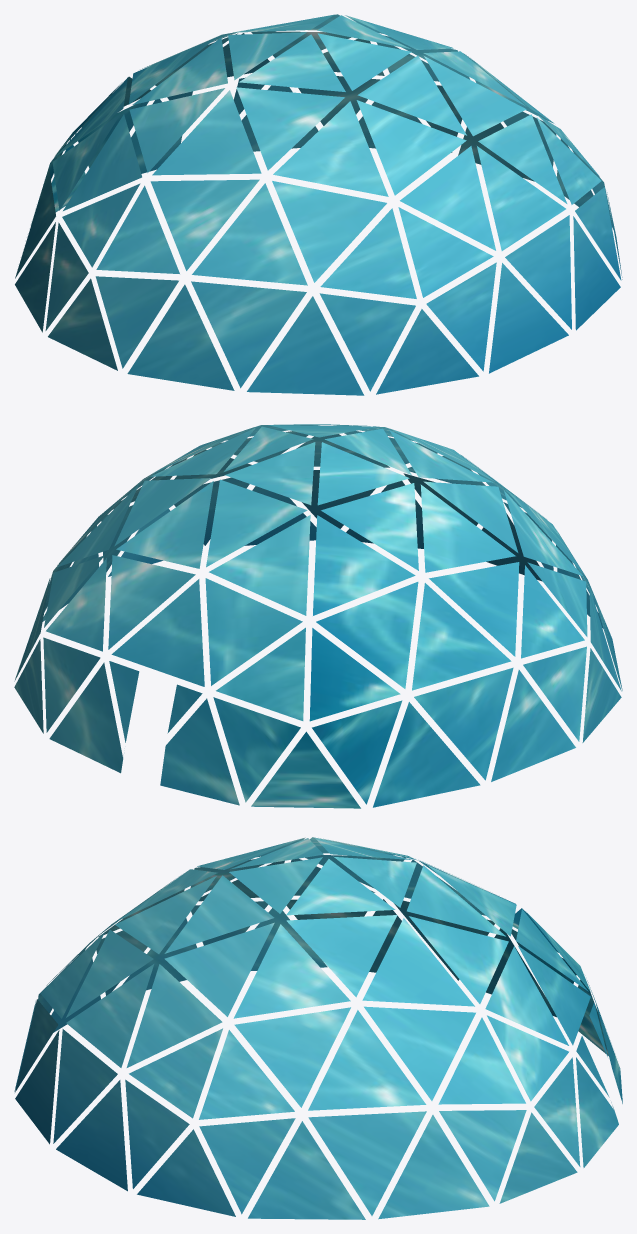
Rendered from DomoCristal.obj.
3 renders of one model, top to bottom at view 1: azimuth 30°, elevation 25°; view 2: azimuth 150°, elevation 25°; view 3: azimuth 270°, elevation 25°, orthographic.
Visible parts, largest first — view 1: DomoCristal:polySurface36; view 2: DomoCristal:polySurface36; view 3: DomoCristal:polySurface36.
Boxes of the visible parts, <box> form: DomoCristal:polySurface36: <box>15,14,622,395</box>; DomoCristal:polySurface36: <box>14,424,622,808</box>; DomoCristal:polySurface36: <box>14,837,622,1219</box>.
Size of the model in its own units: 22.26 by 9.87 by 22.24.
Materials: 1 (1 with a texture image).
